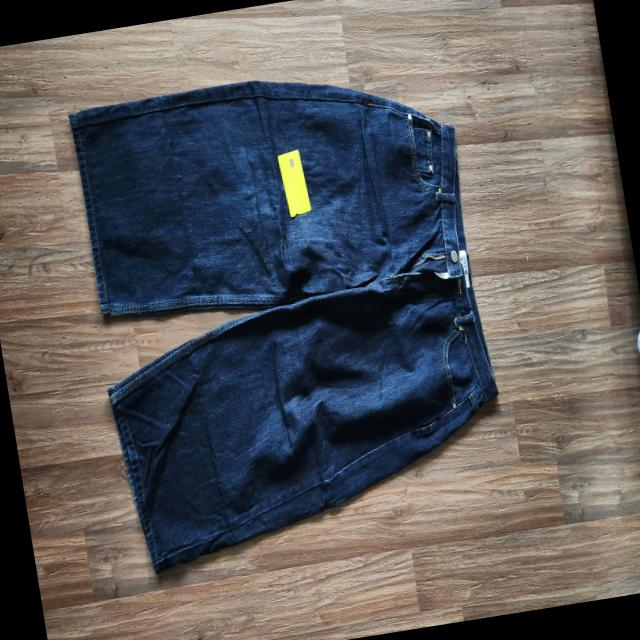card: (276, 149, 311, 219)
